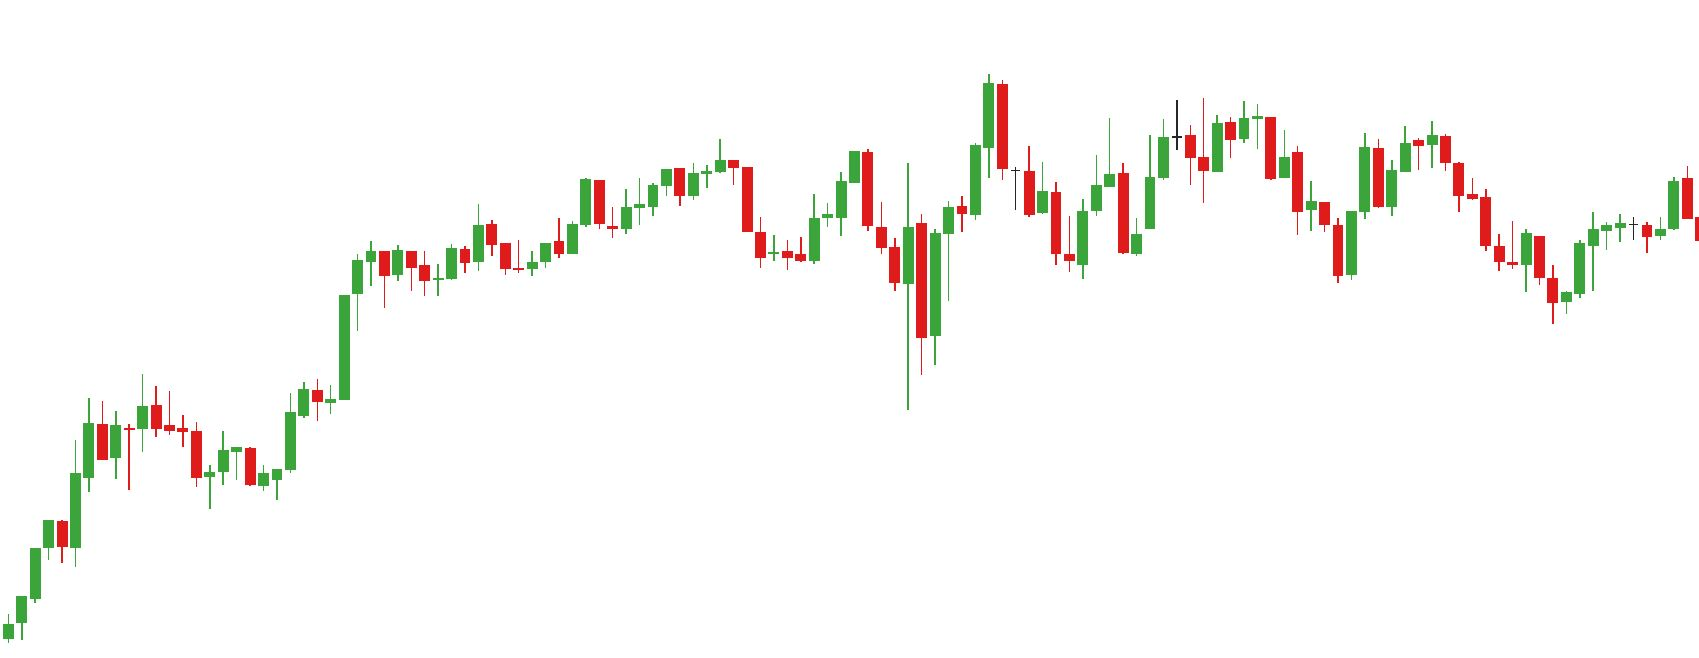buy: (122, 413, 215, 512)
